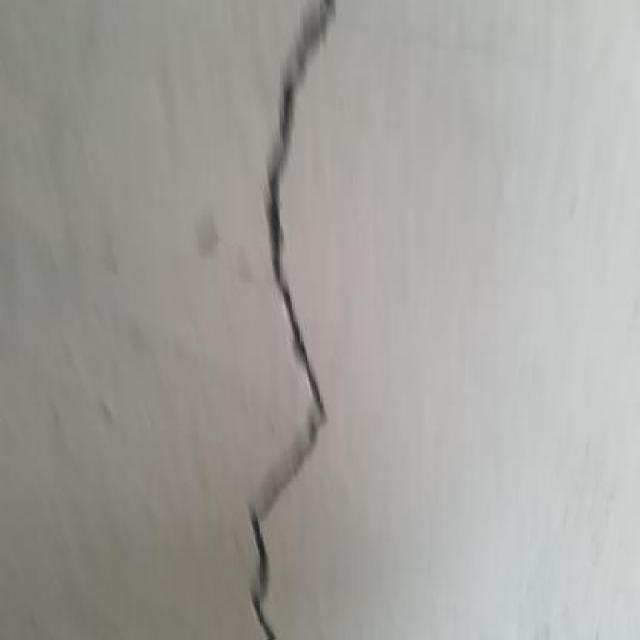vertical crack: (242, 0, 336, 639)
